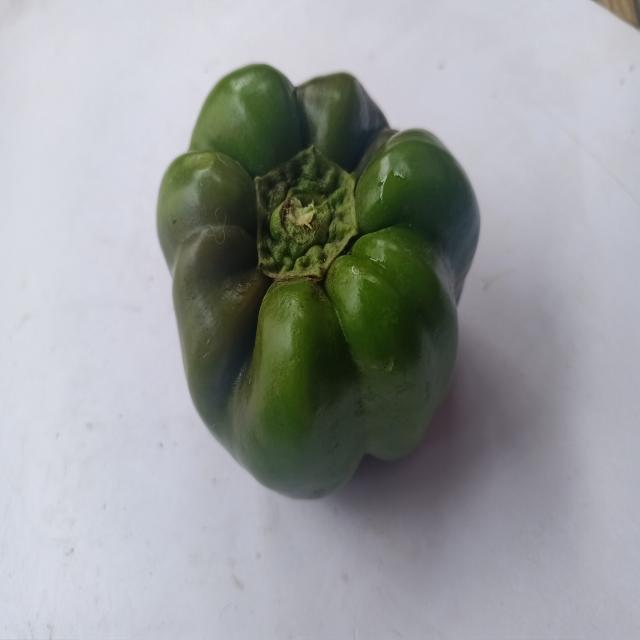Capsicum: (146, 46, 514, 526)
